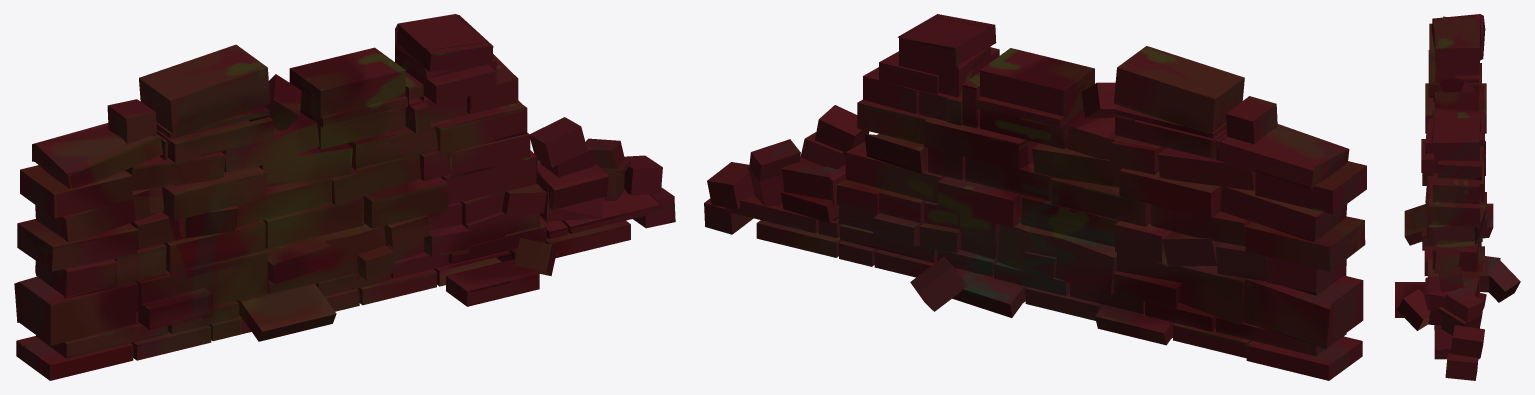
Rendered from wall02.dae.
The picture shows the model from 3 angles, left to right: view 1: azimuth 30°, elevation 25°; view 2: azimuth 150°, elevation 25°; view 3: azimuth 270°, elevation 25°; orthographic projection. The views are drawn at different scales.
Parts seen in each view (by area): view 1: destWall; view 2: destWall; view 3: destWall.
Part boxes in pixels (box(x1,y1,x2,y2)): destWall: box(14, 14, 675, 380); destWall: box(704, 14, 1366, 380); destWall: box(1395, 14, 1520, 380).
Size of what is drawn, in the model's own units: 23.4 by 5.63 by 9.52.
1 material, 1 textured.
